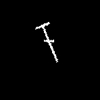double_crochet: (36, 22, 57, 61)
